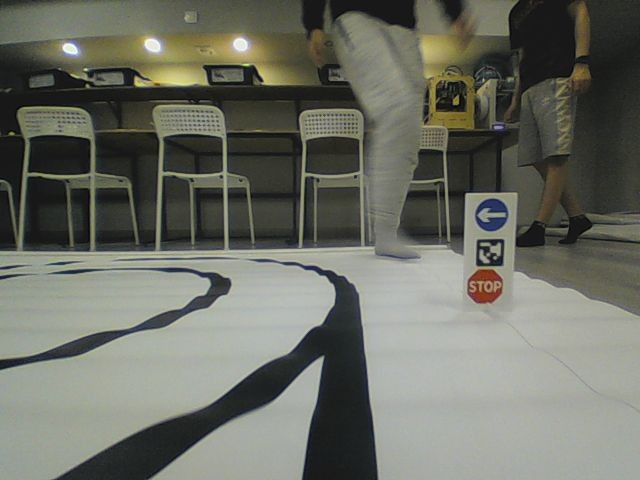Stop: (465, 268, 505, 304)
